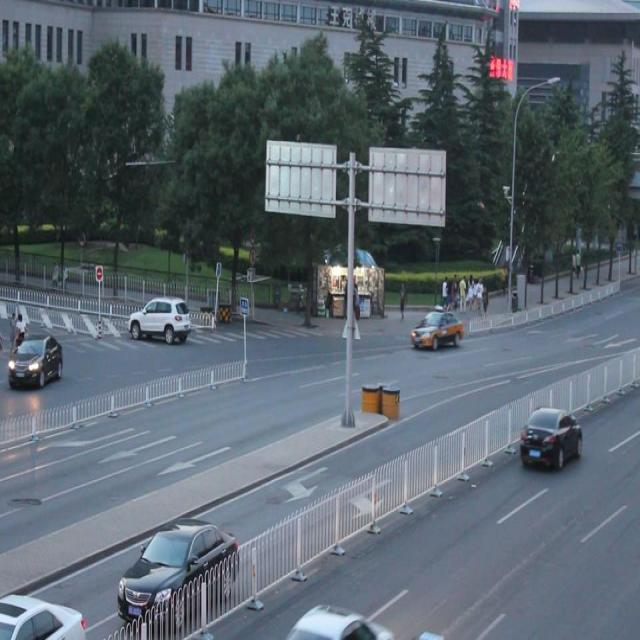car: (115, 515, 239, 619), (283, 595, 392, 640), (0, 586, 84, 640), (518, 404, 580, 468), (9, 334, 65, 386), (128, 296, 191, 342), (410, 305, 463, 350)
